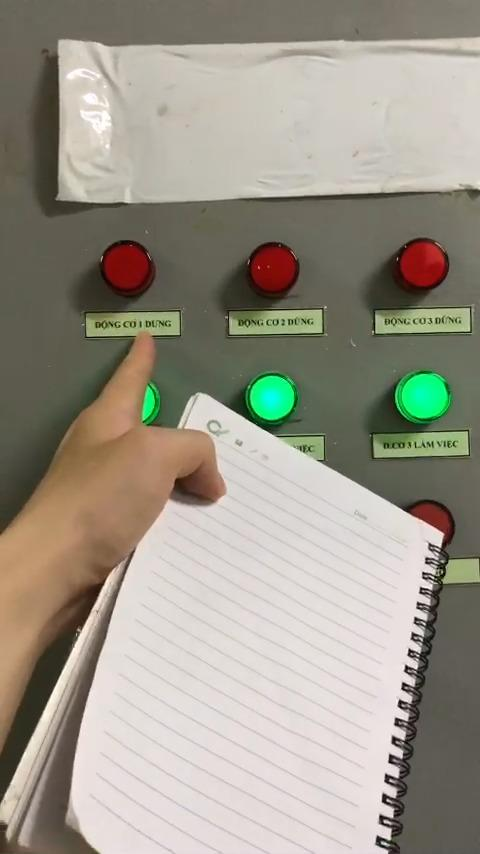led: (243, 236, 304, 303), (97, 236, 159, 299), (389, 369, 453, 424), (393, 232, 451, 290), (246, 371, 298, 421), (404, 497, 455, 540)
